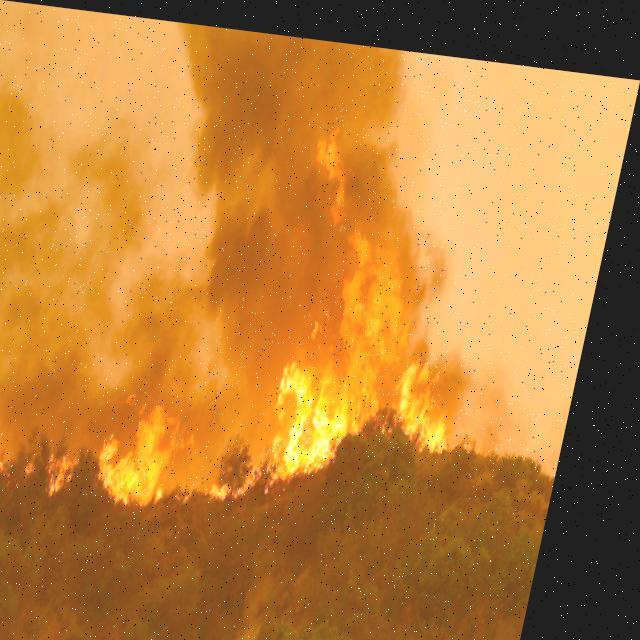Fire: (8, 90, 518, 532)
